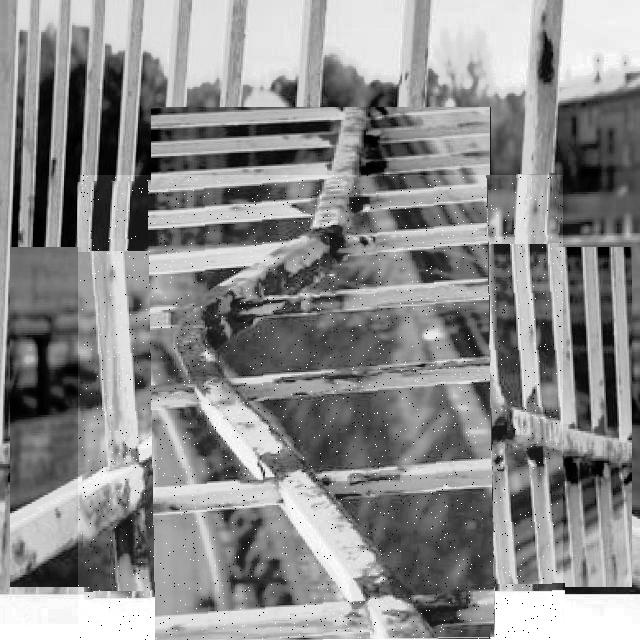anomaly-fence: (78, 175, 563, 640)
